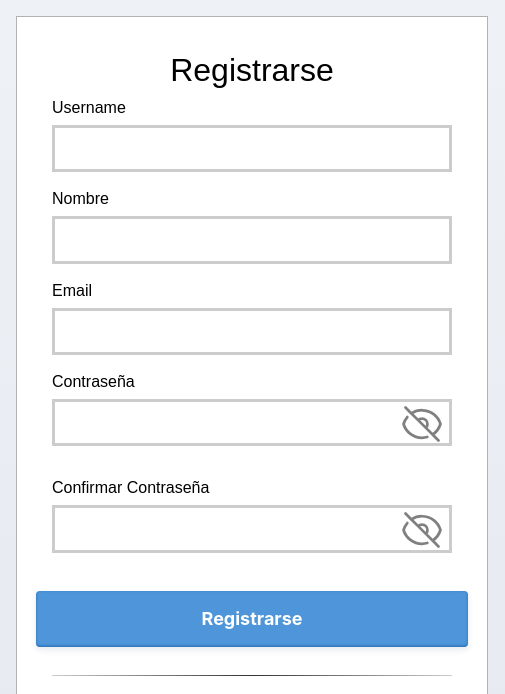
Test: Register component › muestra error si las contraseñas no coinciden
Type "Password1" into the password field labelled "Contraseña".
click(252, 423); type("Password1")  # box [52,399,452,446]
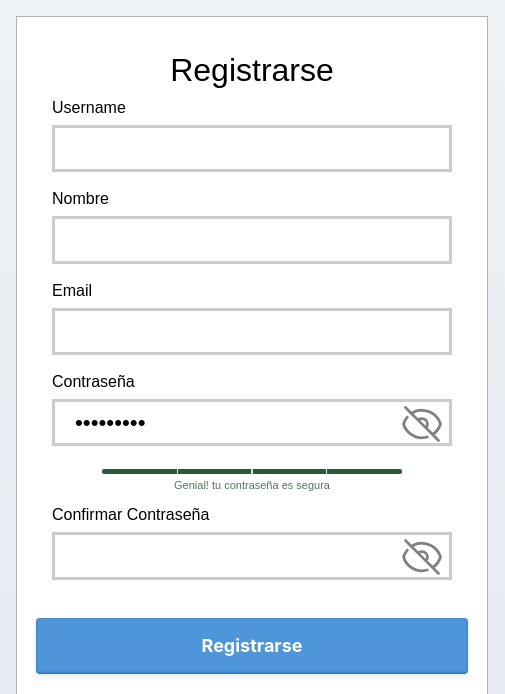
Type "OtraPassword" into the password field labelled "Confirmar Contraseña".
click(252, 556); type("OtraPassword")  # box [52,532,452,580]
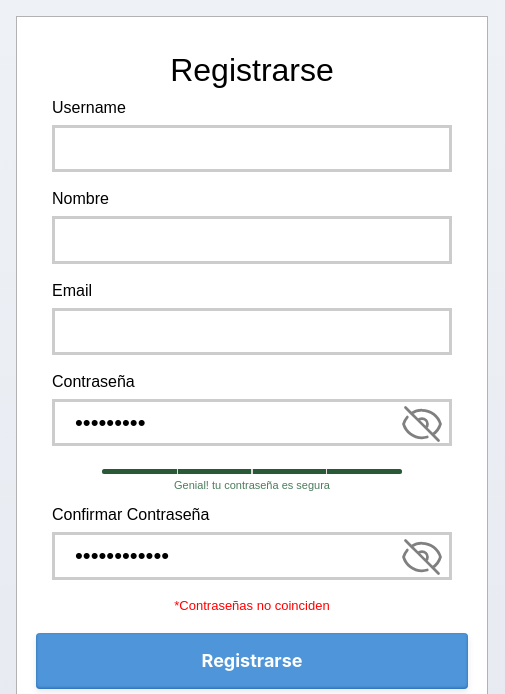
Result: the text "*Contraseñas no coinciden" is shown at [174,598,330,613]
